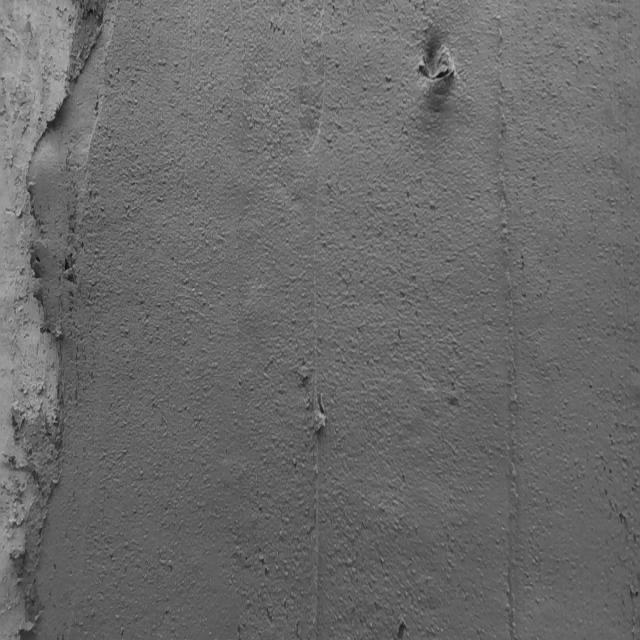trowels marks: (492, 2, 531, 640), (300, 350, 336, 640)
